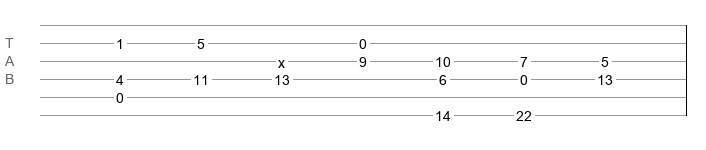0: (116, 90, 124, 100), (359, 36, 367, 46), (520, 72, 528, 82)
1: (116, 36, 124, 46)
10: (435, 54, 451, 64)
11: (193, 72, 209, 82)
13: (274, 72, 290, 82), (597, 72, 613, 82)
14: (435, 108, 451, 118)
22: (516, 108, 532, 118)
4: (116, 72, 124, 82)
5: (197, 36, 205, 46), (601, 54, 609, 64)
6: (439, 72, 447, 82)
7: (520, 54, 528, 64)
9: (359, 54, 367, 64)
x: (278, 55, 285, 63)
